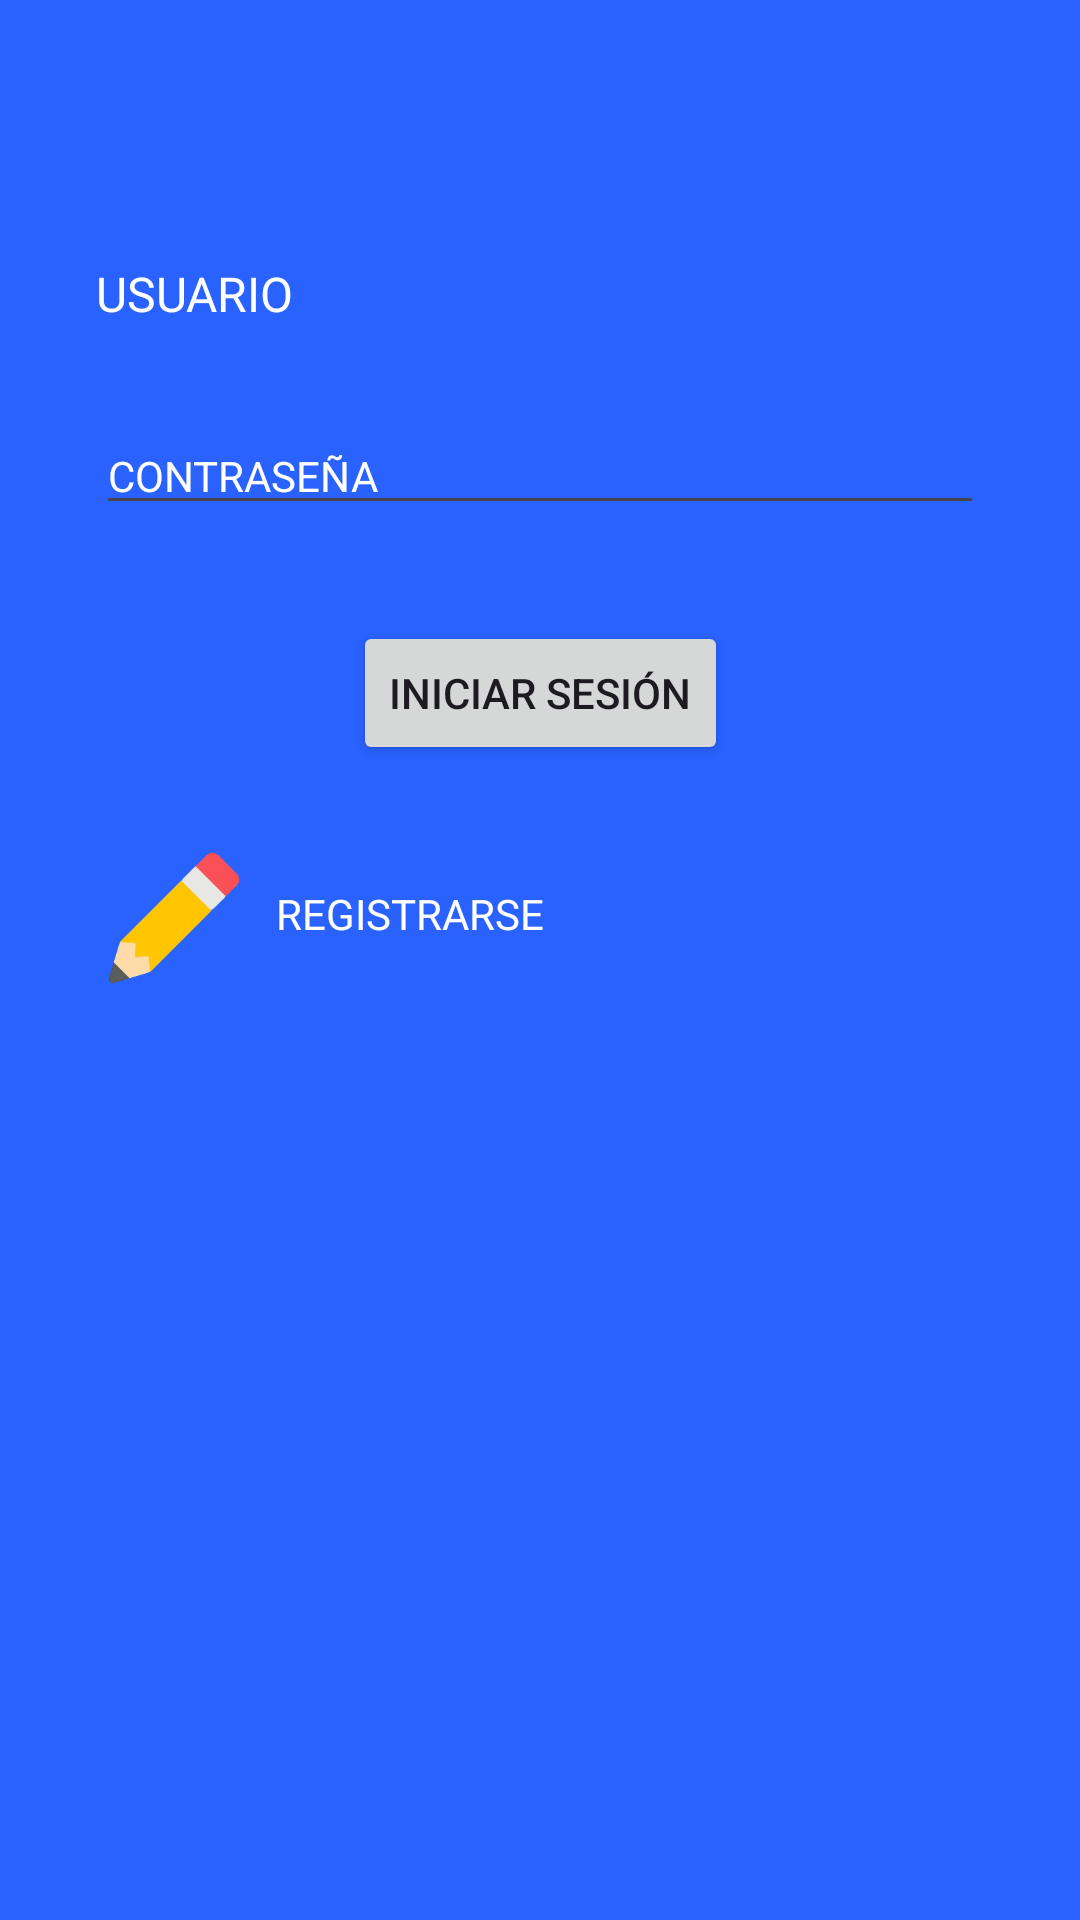

Where icons sit on this 1080 x 1920 app screen, as (x1, y1, x2, y2):
pen: (108, 852, 240, 984)
